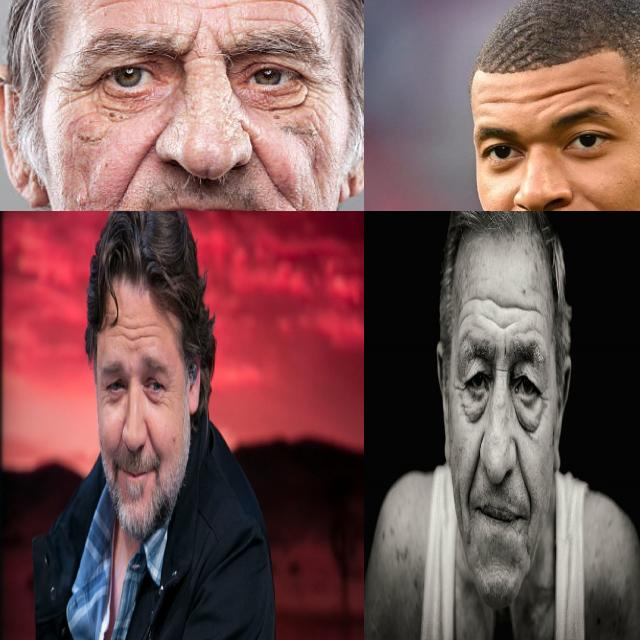crows_feet: (52, 76, 98, 114), (300, 69, 334, 115), (455, 376, 466, 398), (99, 389, 109, 410), (161, 391, 172, 408), (540, 390, 548, 410)
forehead: (476, 291, 544, 326), (528, 78, 616, 104), (231, 0, 304, 18), (113, 320, 158, 344), (480, 92, 520, 110), (458, 299, 469, 334)
frown_line: (183, 13, 224, 63), (495, 363, 508, 379)
gummy_smile: (116, 138, 162, 198), (244, 133, 288, 195), (513, 439, 531, 493), (470, 433, 482, 488), (582, 191, 606, 211), (144, 422, 155, 454), (113, 424, 125, 451), (495, 202, 517, 211)
masseter: (456, 482, 462, 528)
sad_smile: (464, 494, 473, 520), (526, 500, 532, 530)
